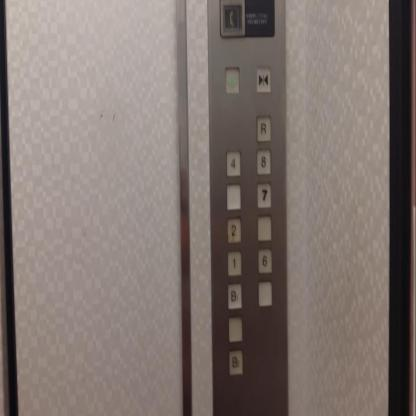1: (227, 249, 242, 276)
2: (226, 216, 241, 244)
4: (226, 150, 240, 176)
6: (258, 248, 272, 274)
7: (257, 180, 272, 208)
8: (256, 148, 272, 176)
B1: (227, 282, 243, 310)
B3: (228, 348, 243, 375)
R: (255, 113, 273, 144)
call: (223, 2, 241, 30)
close: (256, 65, 270, 92)
empty: (225, 183, 242, 210), (256, 214, 272, 242), (258, 280, 273, 307), (228, 315, 243, 342)
open: (224, 65, 241, 94)
